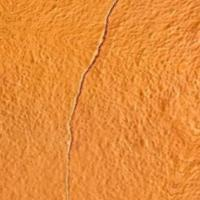crack: (62, 0, 121, 188)
